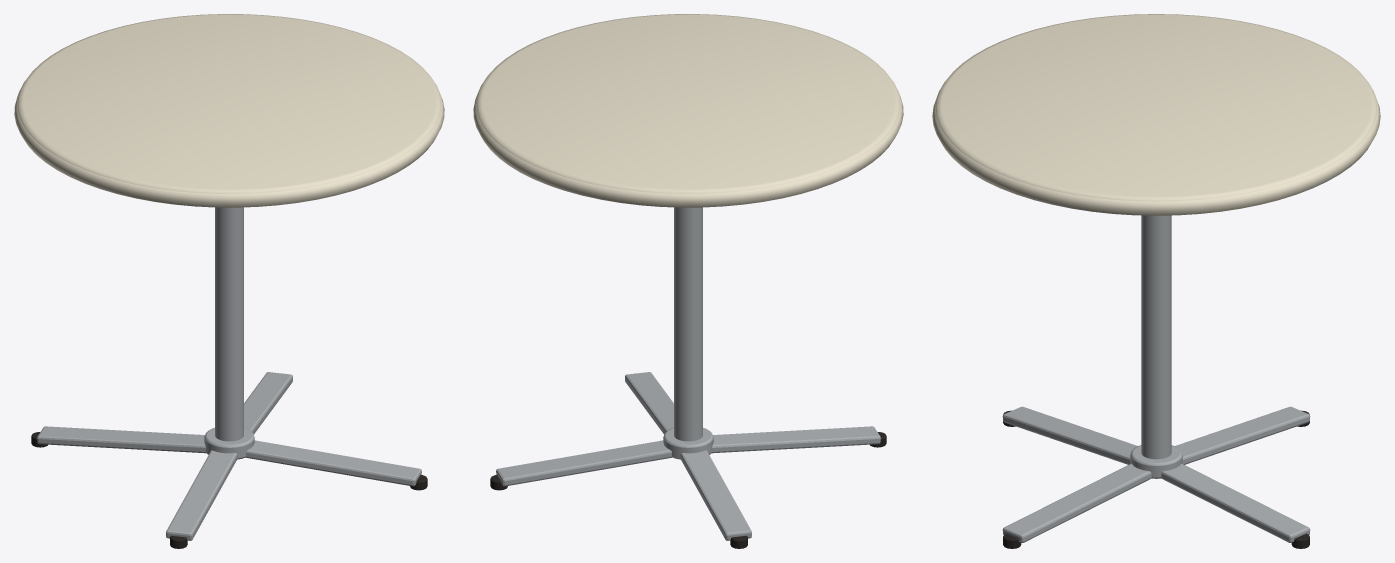
File: SM_PlasticTable.glb
The picture shows the model from 3 angles, left to right: view 1: azimuth 30°, elevation 25°; view 2: azimuth 150°, elevation 25°; view 3: azimuth 270°, elevation 25°; orthographic projection. The views are drawn at different scales.
Visible parts, largest first — view 1: SM_PlasticTable; view 2: SM_PlasticTable; view 3: SM_PlasticTable.
Boxes of the visible parts, bbox=[...] form: SM_PlasticTable: bbox=[14, 14, 444, 548]; SM_PlasticTable: bbox=[473, 14, 903, 548]; SM_PlasticTable: bbox=[932, 14, 1380, 548].
Size of the model in its own units: 0.7723 by 0.72 by 0.7723.
